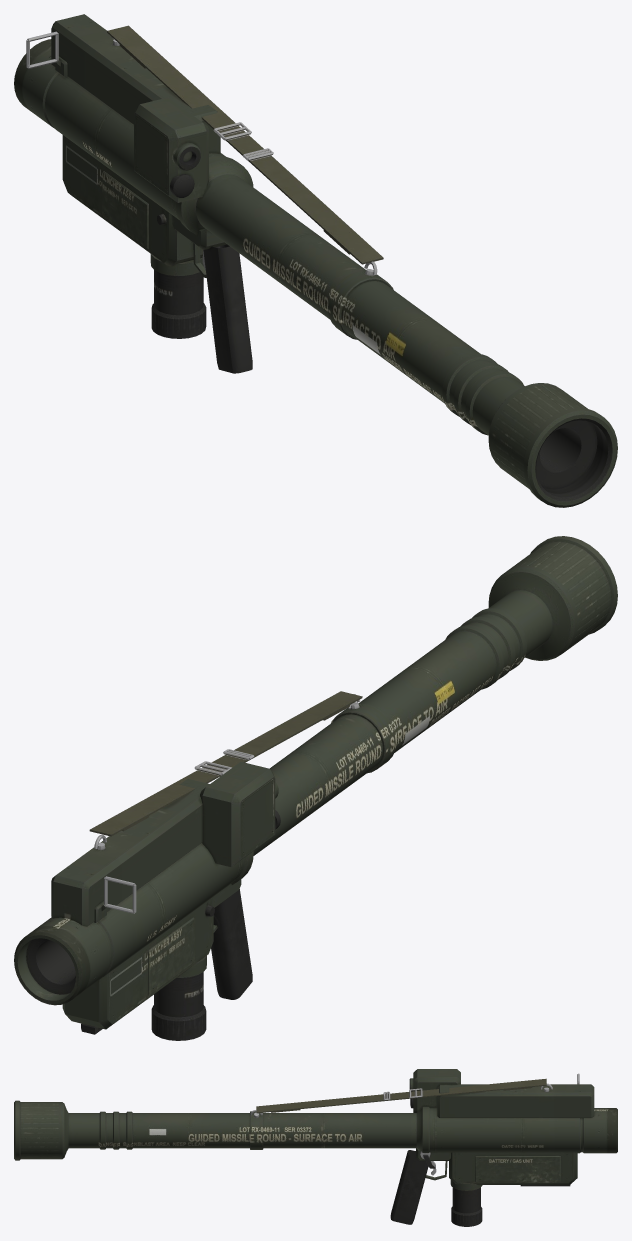
The model's file is mp_redeye.glb.
3 views of the same model, one above another, from view 1: azimuth 30°, elevation 25°; view 2: azimuth 150°, elevation 25°; view 3: azimuth 270°, elevation 25° (orthographic). The views are drawn at different scales.
Parts seen in each view (by area): view 1: body|RDE_T, body|RDE_G; view 2: body|RDE_T, body|RDE_G; view 3: body|RDE_T, body|RDE_G.
Part boxes in pixels (box(x1,y1,x2,y2)): body|RDE_T: box(14, 14, 617, 507); body|RDE_G: box(62, 135, 252, 373); body|RDE_T: box(14, 536, 617, 1005); body|RDE_G: box(62, 879, 252, 1040); body|RDE_T: box(14, 1069, 617, 1160); body|RDE_G: box(390, 1147, 577, 1226).
Size of the model in its own units: 0.1389 by 0.3327 by 1.27.
2 materials, 2 textured.
